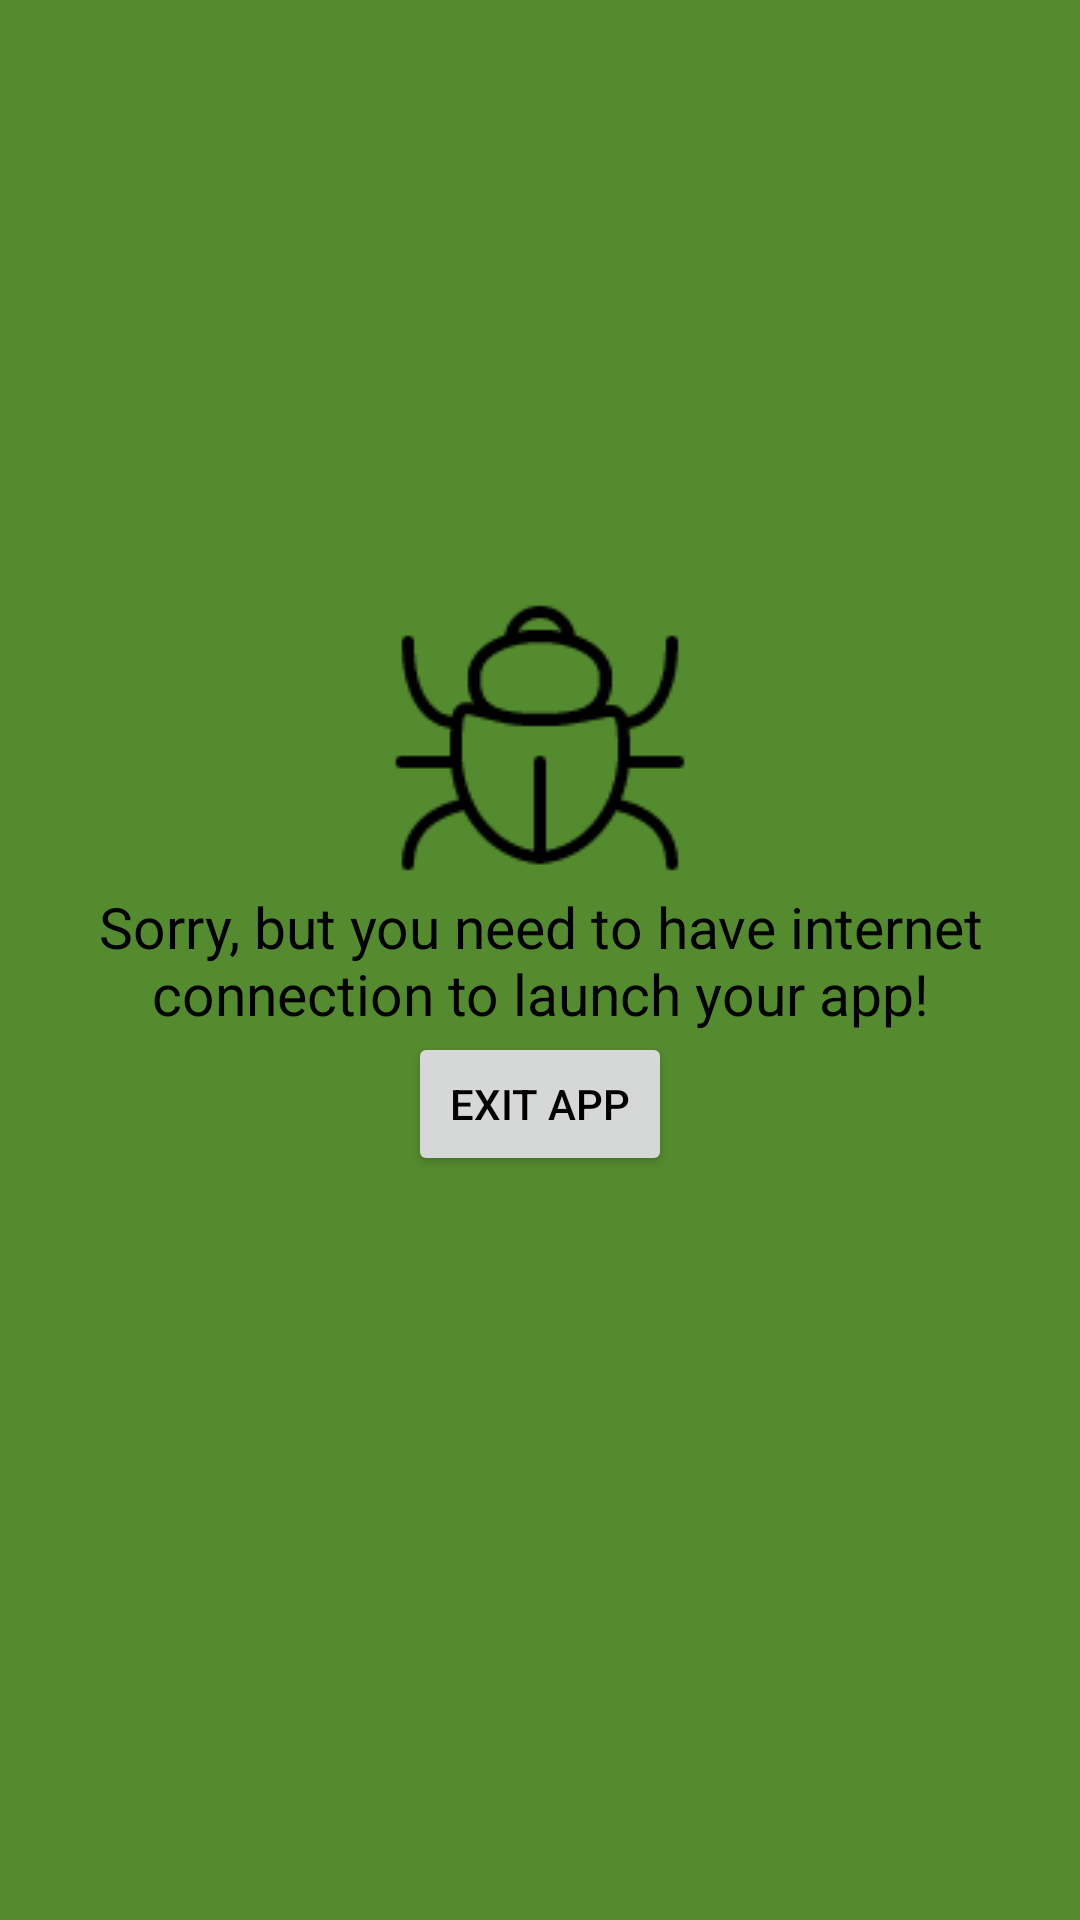

Screen size 1080px x 1920px. Icon name, then its box in pixels as (x1, y1, x2, y2):
bug: (395, 605, 685, 871)
